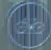bike lane: (1, 4, 50, 47)
